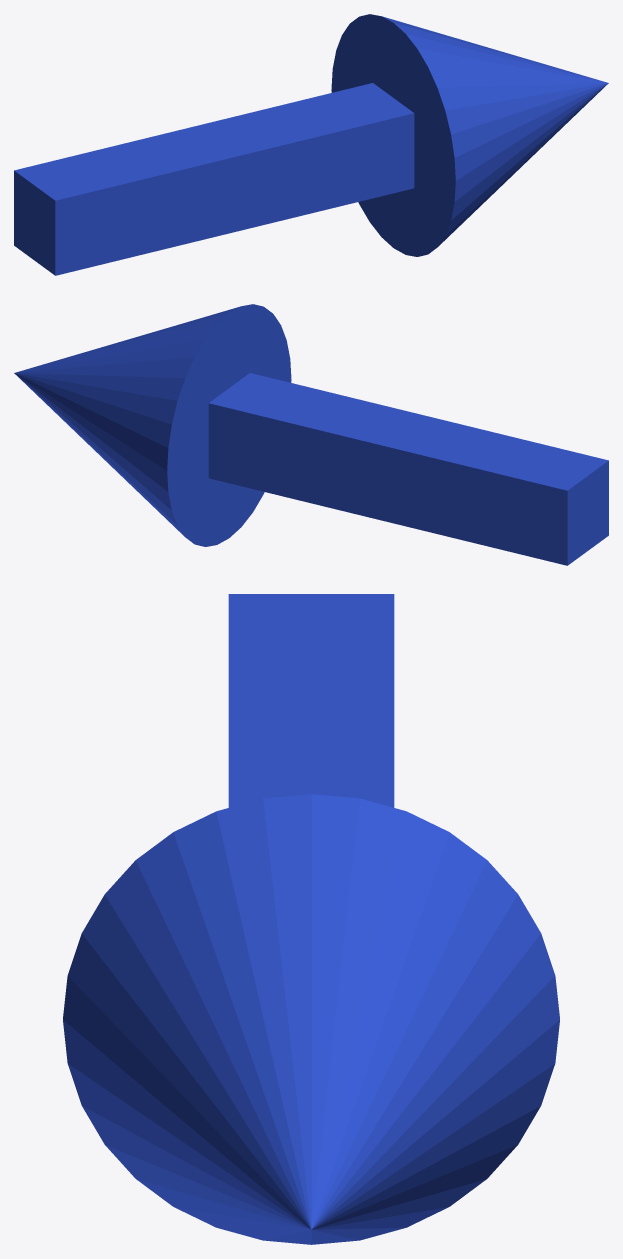
Rendered from marker_blue.dae.
3 renders of one model, top to bottom at view 1: azimuth 30°, elevation 25°; view 2: azimuth 150°, elevation 25°; view 3: azimuth 270°, elevation 25°, orthographic. The views are drawn at different scales.
Parts seen in each view (by area): view 1: Cube; view 2: Cube; view 3: Cube.
Part boxes in pixels (left/top/right/bottom): Cube: left=14, top=14, right=608, bottom=275; Cube: left=14, top=304, right=608, bottom=565; Cube: left=63, top=594, right=559, bottom=1244.
Size of the model in its own units: 0.16 by 0.06 by 0.06.
